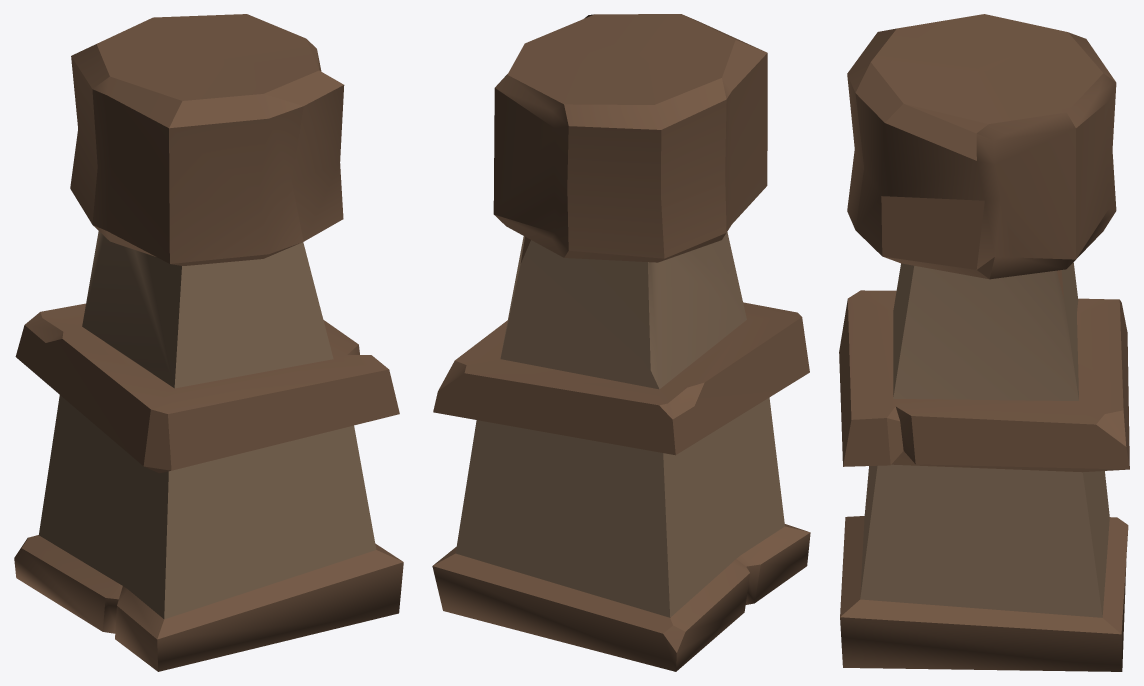
The model's file is smallpost.fbx.
3 renders of one model, left to right at view 1: azimuth 30°, elevation 25°; view 2: azimuth 150°, elevation 25°; view 3: azimuth 270°, elevation 25°, orthographic. The views are drawn at different scales.
Visible parts, largest first — view 1: Wall_03_Center; view 2: Wall_03_Center; view 3: Wall_03_Center.
Boxes of the visible parts, <box> form: Wall_03_Center: <box>14,14,403,671</box>; Wall_03_Center: <box>432,14,810,671</box>; Wall_03_Center: <box>839,14,1129,671</box>.
Bounding box in the file's own units: 0.2679 × 0.5499 × 0.2617.
